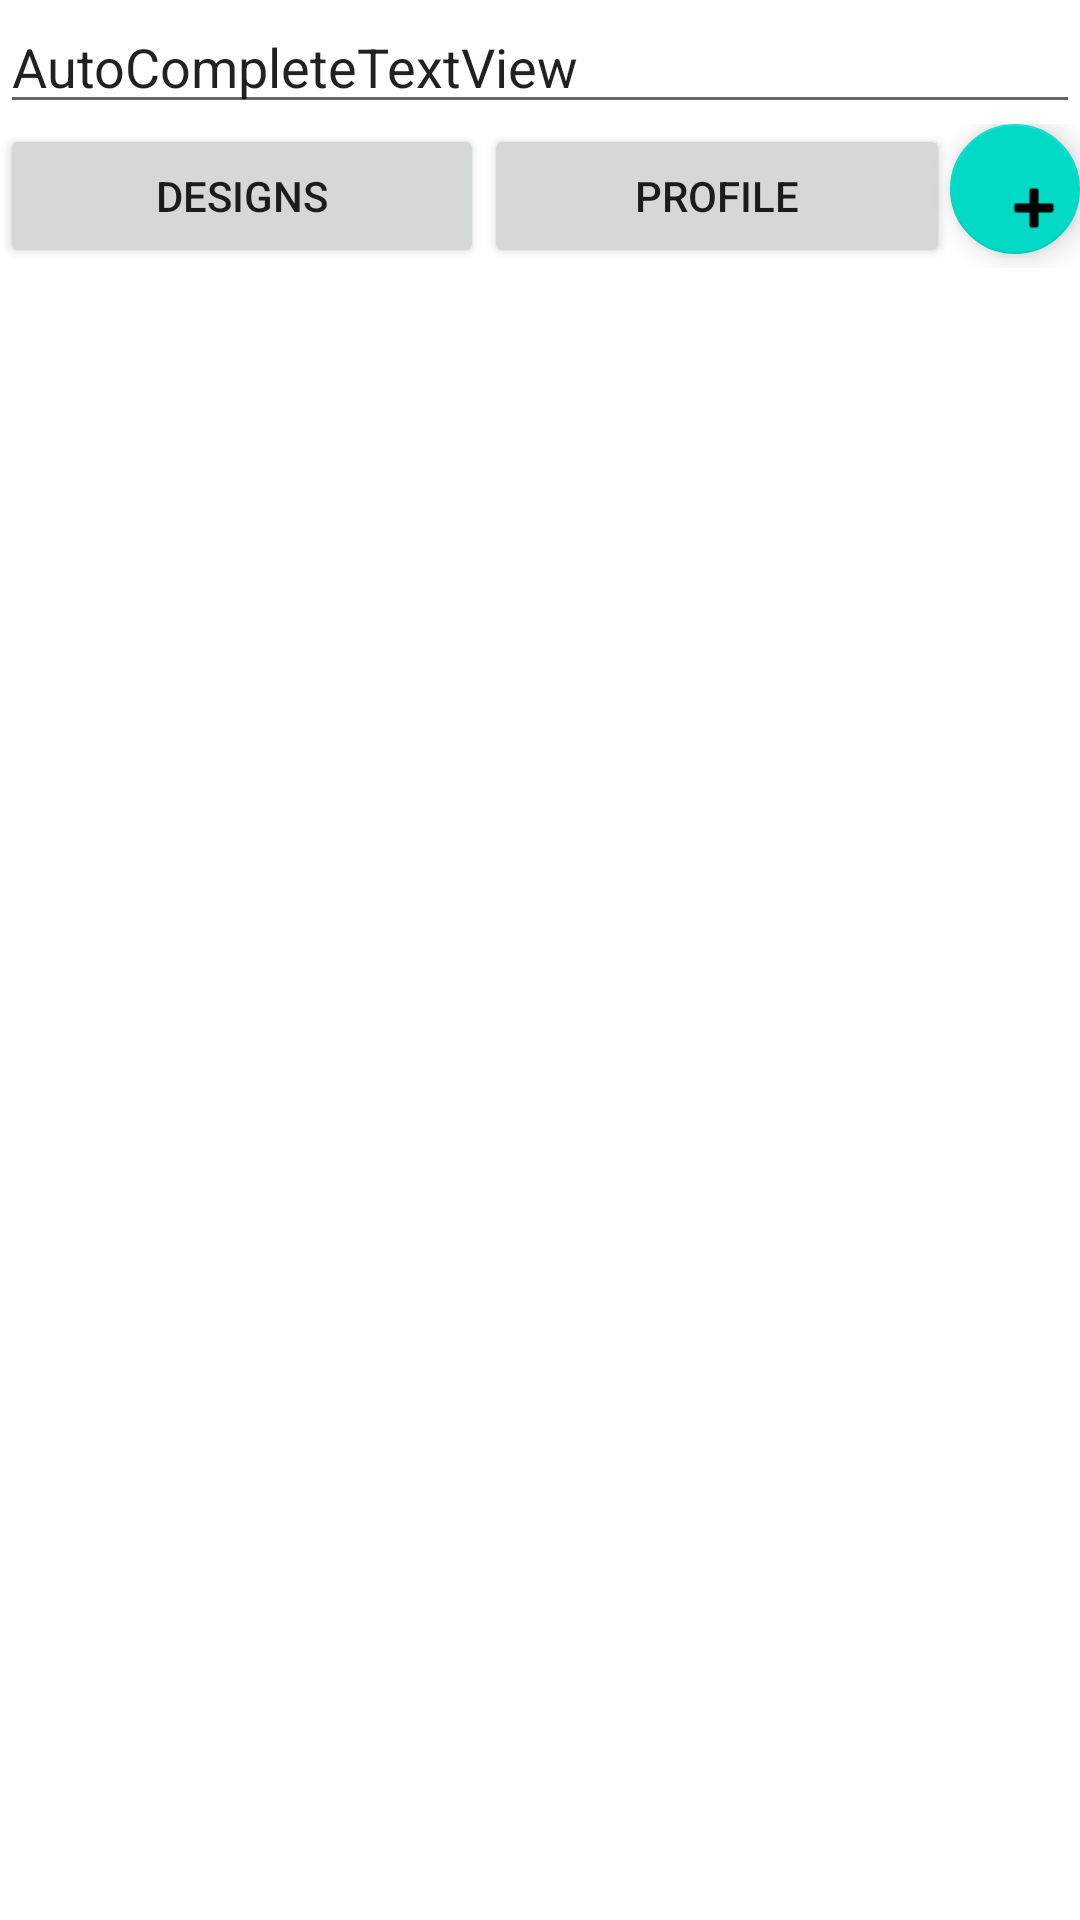

Locate icon controls on the screen. Image size 1080×1920, boxes as rect(x1, y1, x2, y2).
add: rect(950, 124, 1080, 254)
